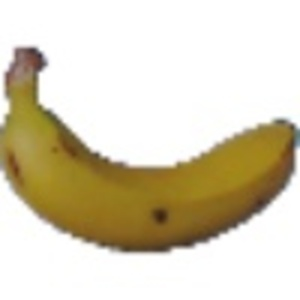banana: (5, 40, 299, 254)
